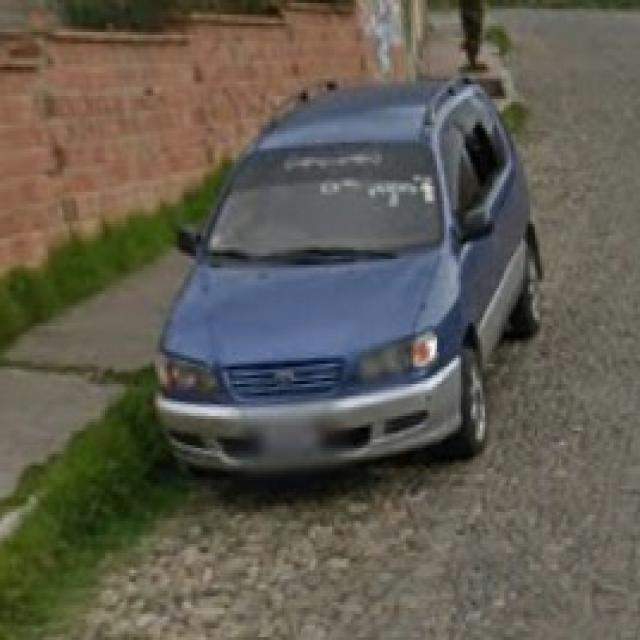Car: (146, 73, 538, 490)
